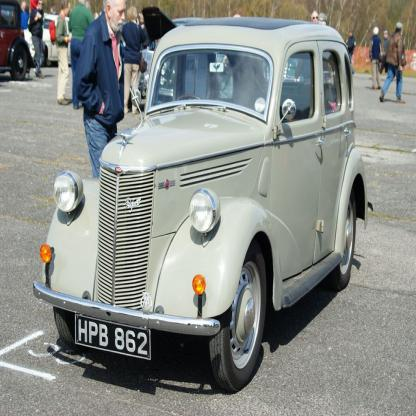Car: (33, 16, 374, 394), (138, 6, 202, 98), (25, 11, 72, 65), (0, 0, 31, 79)
